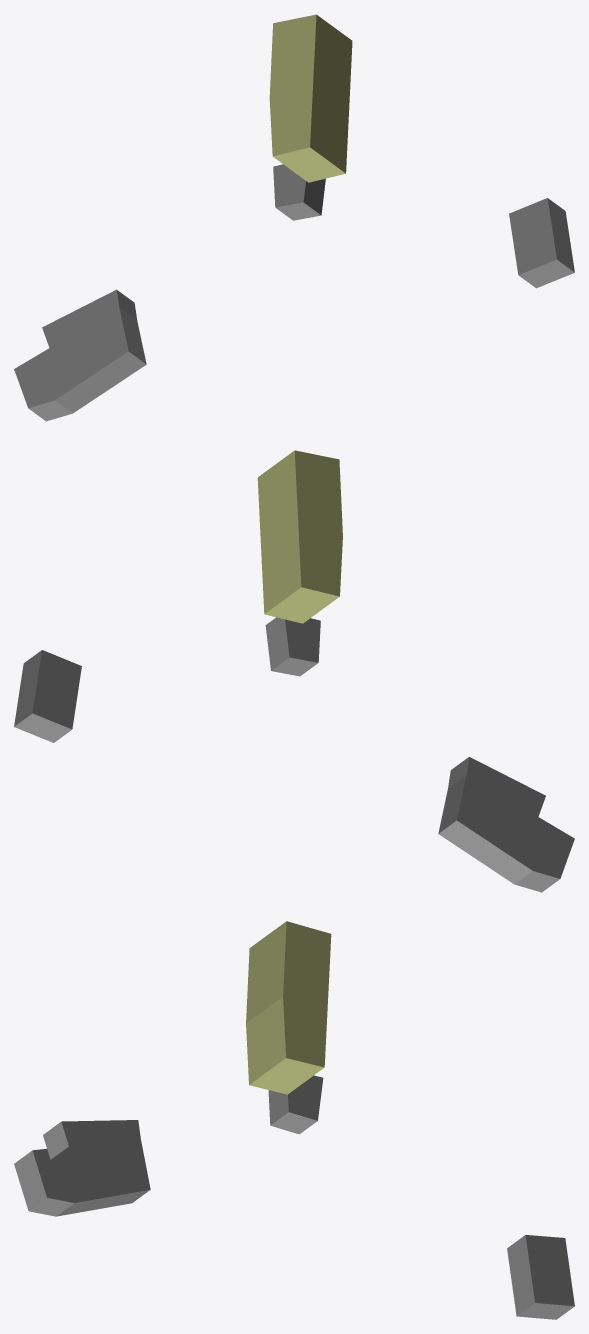
The picture shows the model from 3 angles, top to bottom: view 1: azimuth 30°, elevation 25°; view 2: azimuth 150°, elevation 25°; view 3: azimuth 330°, elevation 25°; orthographic projection. The views are drawn at different scales.
Parts seen in each view (by area): view 1: 0_1_2_0_0_2_3_3_3; view 2: 0_1_2_0_0_2_3_3_3; view 3: 0_1_2_0_0_2_3_3_3.
Boxes of the visible parts, bbox=[...] form: 0_1_2_0_0_2_3_3_3: bbox=[14, 14, 574, 421]; 0_1_2_0_0_2_3_3_3: bbox=[14, 450, 574, 892]; 0_1_2_0_0_2_3_3_3: bbox=[14, 921, 574, 1319].
Bounding box in the file's own units: 51.47 × 30.48 × 7.04.
